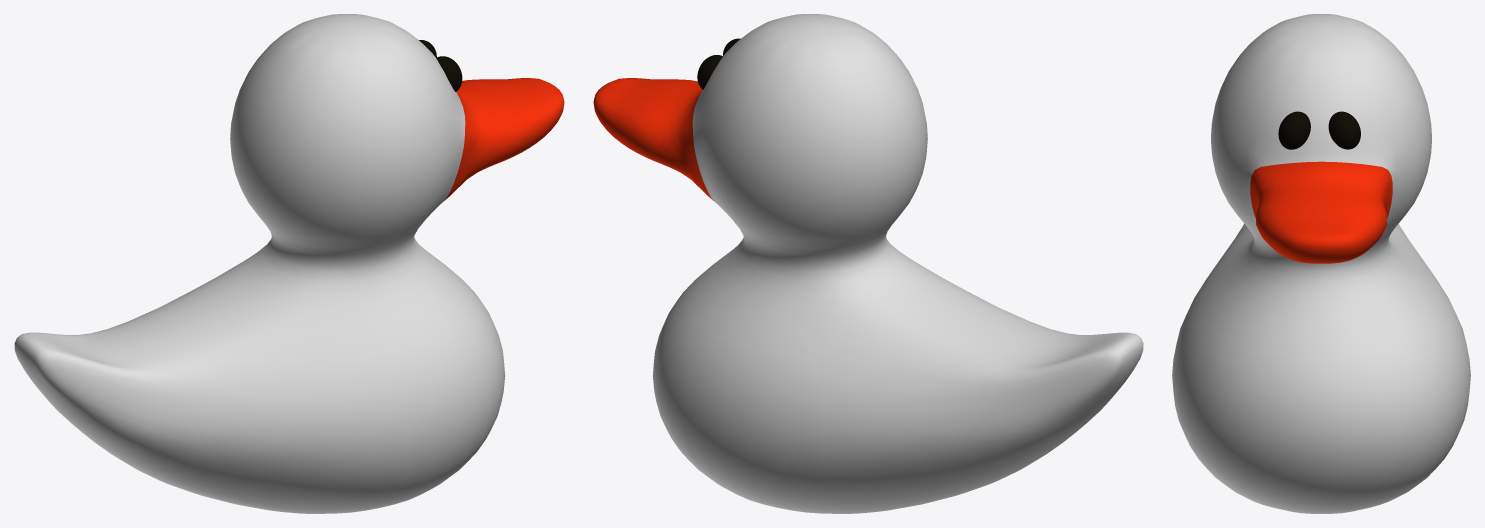
File: motherDuck.FBX
The picture shows the model from 3 angles, left to right: view 1: azimuth 30°, elevation 25°; view 2: azimuth 150°, elevation 25°; view 3: azimuth 270°, elevation 25°; orthographic projection.
Visible parts, largest first — view 1: Sphere006; view 2: Sphere006; view 3: Sphere006.
Part boxes in pixels (x1,y1,x2,y2): Sphere006: (14,14,564,513); Sphere006: (593,14,1143,513); Sphere006: (1172,14,1470,513).
Bounding box in the file's own units: 85.05 × 71.18 × 41.33.
